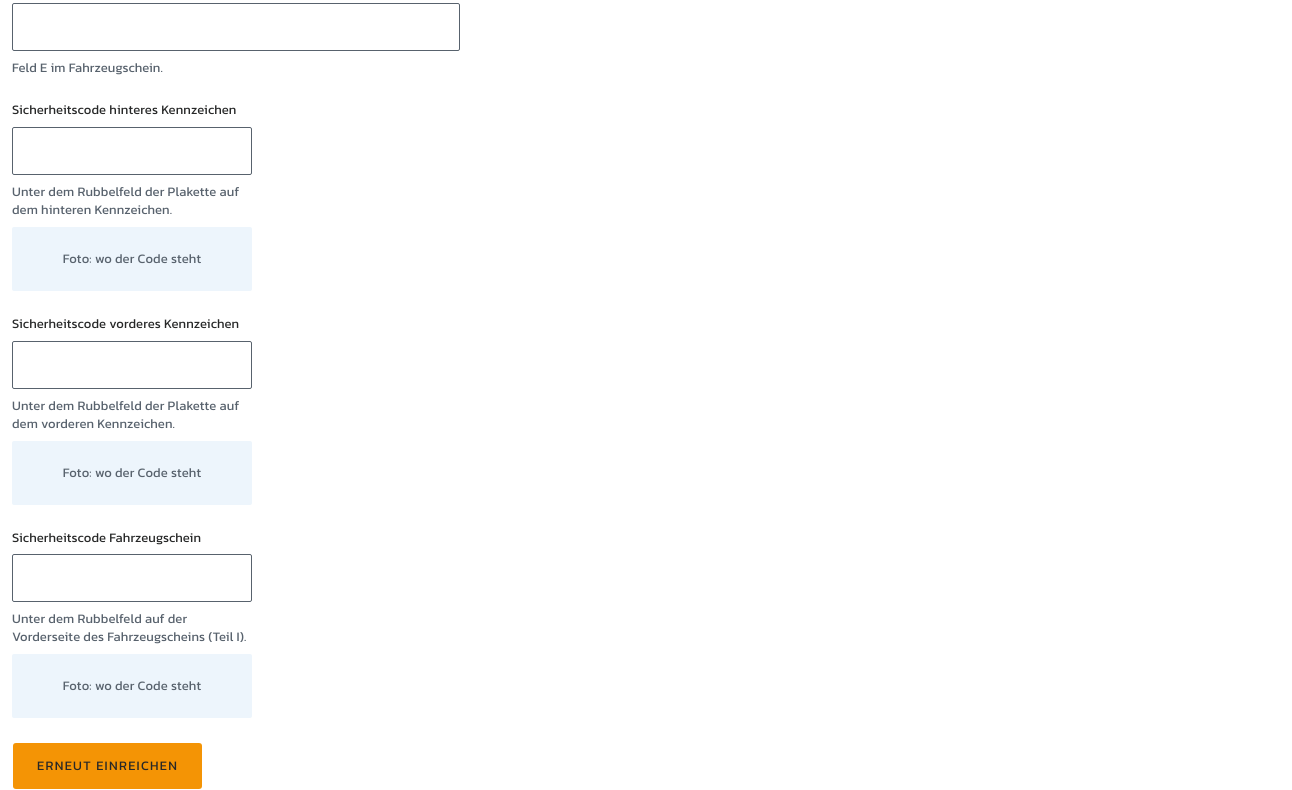
CorrectOrder › asks for at least one change instead of sending an empty correction
(page scrolled)
Click the button "Erneut einreichen" at (108, 766), box [12, 742, 203, 789]
(page scrolled)
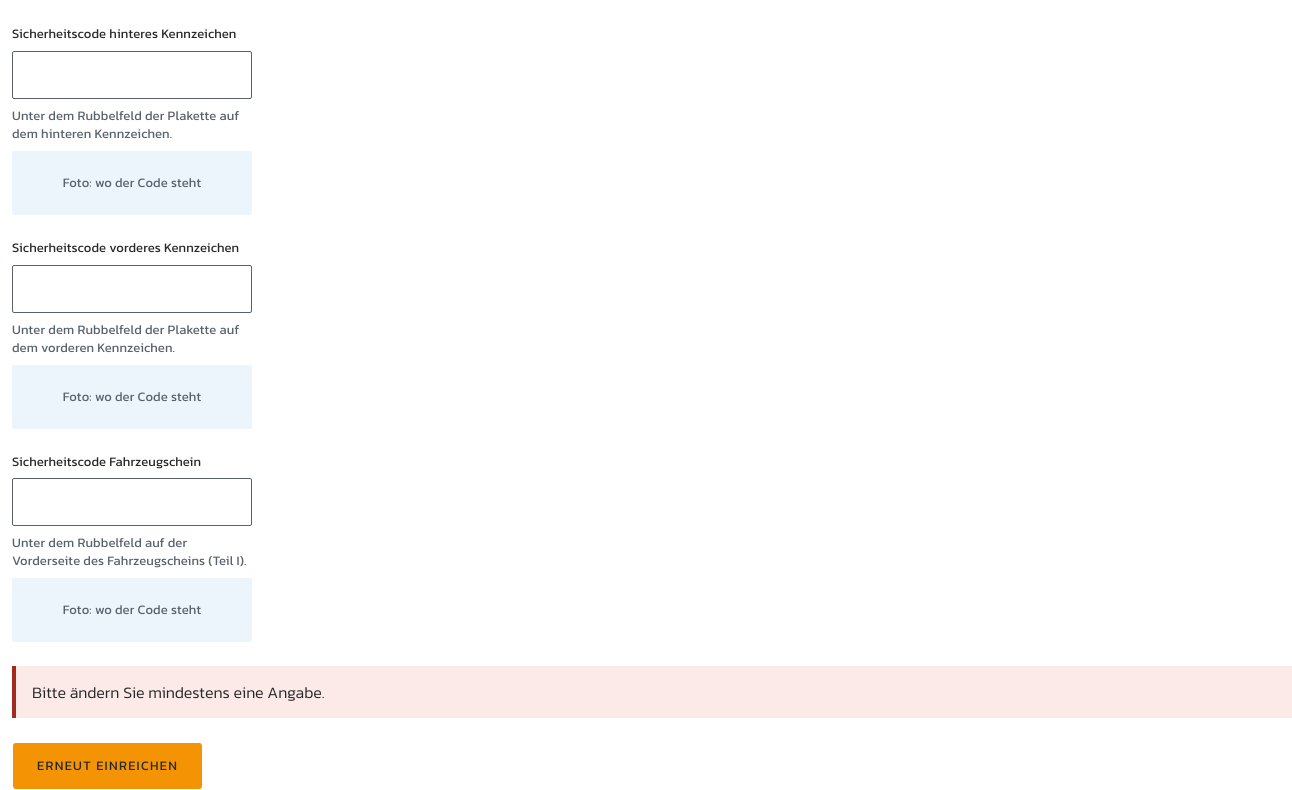
Now the message shows "mindestens eine Angabe", box [32, 680, 325, 704]
